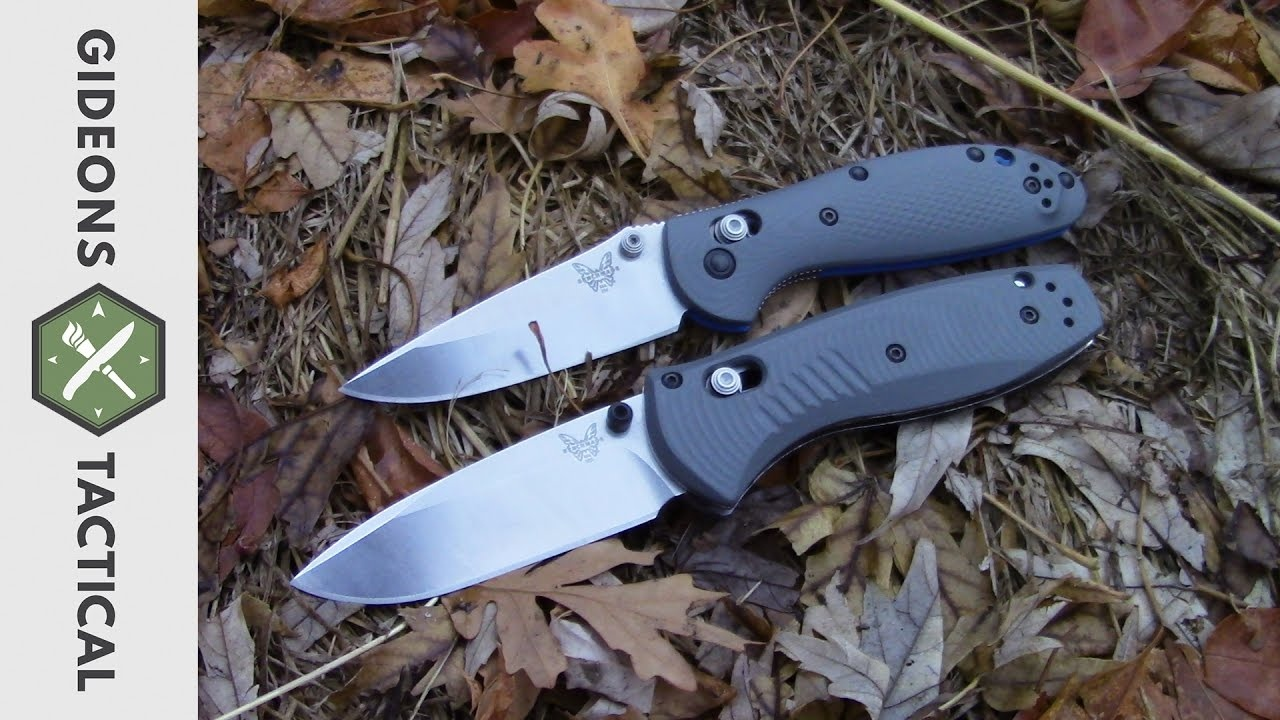knife: (283, 261, 1107, 623), (331, 137, 1091, 411)
